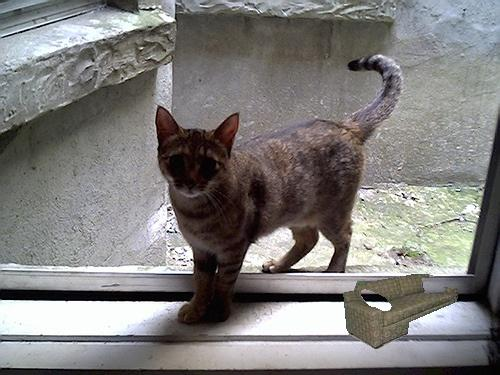tampered: (344, 275, 458, 349)
